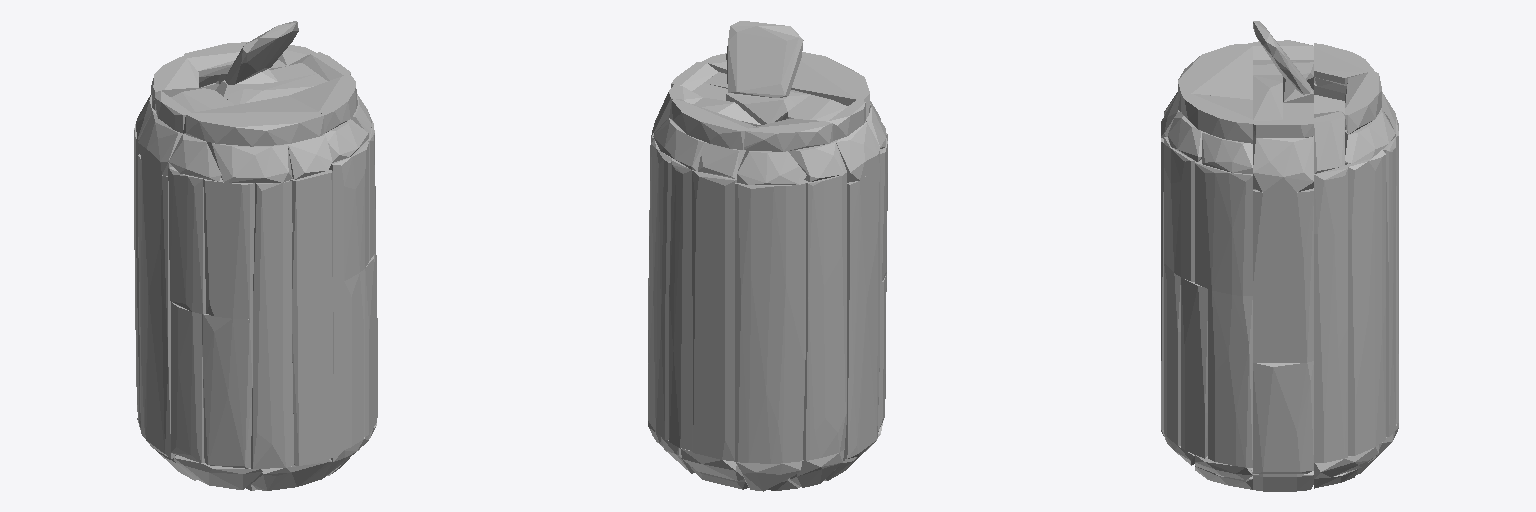
--- Facts derived from the render (not from the file) ---
3 views of the same robot in one strip: view 1: azimuth 30°, elevation 25°; view 2: azimuth 150°, elevation 25°; view 3: azimuth 270°, elevation 25° (orthographic).
Robot: root — 64 links, 63 joints (63 fixed); root link link_df1d8567cf192c61b2cc746911f13ff9_convex_piece_0; default pose: all joints at 0.
Visible links, largest first — view 1: link_df1d8567cf192c61b2cc746911f13ff9_convex_piece_13, link_df1d8567cf192c61b2cc746911f13ff9_convex_piece_12, link_df1d8567cf192c61b2cc746911f13ff9_convex_piece_22, link_df1d8567cf192c61b2cc746911f13ff9_convex_piece_10, link_df1d8567cf192c61b2cc746911f13ff9_convex_piece_14, link_df1d8567cf192c61b2cc746911f13ff9_convex_piece_0, link_df1d8567cf192c61b2cc746911f13ff9_convex_piece_18, link_df1d8567cf192c61b2cc746911f13ff9_convex_piece_15, link_df1d8567cf192c61b2cc746911f13ff9_convex_piece_11, link_df1d8567cf192c61b2cc746911f13ff9_convex_piece_3, link_df1d8567cf192c61b2cc746911f13ff9_convex_piece_43, link_df1d8567cf192c61b2cc746911f13ff9_convex_piece_19 (+17 smaller); view 2: link_df1d8567cf192c61b2cc746911f13ff9_convex_piece_33, link_df1d8567cf192c61b2cc746911f13ff9_convex_piece_62, link_df1d8567cf192c61b2cc746911f13ff9_convex_piece_32, link_df1d8567cf192c61b2cc746911f13ff9_convex_piece_22, link_df1d8567cf192c61b2cc746911f13ff9_convex_piece_63, link_df1d8567cf192c61b2cc746911f13ff9_convex_piece_56, link_df1d8567cf192c61b2cc746911f13ff9_convex_piece_52, link_df1d8567cf192c61b2cc746911f13ff9_convex_piece_0, link_df1d8567cf192c61b2cc746911f13ff9_convex_piece_34, link_df1d8567cf192c61b2cc746911f13ff9_convex_piece_17, link_df1d8567cf192c61b2cc746911f13ff9_convex_piece_58, link_df1d8567cf192c61b2cc746911f13ff9_convex_piece_6 (+14 smaller); view 3: link_df1d8567cf192c61b2cc746911f13ff9_convex_piece_56, link_df1d8567cf192c61b2cc746911f13ff9_convex_piece_30, link_df1d8567cf192c61b2cc746911f13ff9_convex_piece_16, link_df1d8567cf192c61b2cc746911f13ff9_convex_piece_2, link_df1d8567cf192c61b2cc746911f13ff9_convex_piece_4, link_df1d8567cf192c61b2cc746911f13ff9_convex_piece_7, link_df1d8567cf192c61b2cc746911f13ff9_convex_piece_19, link_df1d8567cf192c61b2cc746911f13ff9_convex_piece_3, link_df1d8567cf192c61b2cc746911f13ff9_convex_piece_0, link_df1d8567cf192c61b2cc746911f13ff9_convex_piece_53, link_df1d8567cf192c61b2cc746911f13ff9_convex_piece_63, link_df1d8567cf192c61b2cc746911f13ff9_convex_piece_18 (+18 smaller).
Boxes of the visible links, x1,y1,x2,y2 form: link_df1d8567cf192c61b2cc746911f13ff9_convex_piece_13: [290, 170, 333, 465]; link_df1d8567cf192c61b2cc746911f13ff9_convex_piece_12: [251, 180, 294, 468]; link_df1d8567cf192c61b2cc746911f13ff9_convex_piece_22: [138, 154, 173, 458]; link_df1d8567cf192c61b2cc746911f13ff9_convex_piece_10: [202, 314, 252, 468]; link_df1d8567cf192c61b2cc746911f13ff9_convex_piece_14: [203, 178, 254, 319]; link_df1d8567cf192c61b2cc746911f13ff9_convex_piece_0: [183, 96, 323, 146]; link_df1d8567cf192c61b2cc746911f13ff9_convex_piece_18: [333, 273, 363, 452]; link_df1d8567cf192c61b2cc746911f13ff9_convex_piece_15: [168, 167, 205, 313]; link_df1d8567cf192c61b2cc746911f13ff9_convex_piece_11: [171, 302, 204, 462]; link_df1d8567cf192c61b2cc746911f13ff9_convex_piece_3: [329, 141, 368, 283]; link_df1d8567cf192c61b2cc746911f13ff9_convex_piece_43: [207, 142, 292, 182]; link_df1d8567cf192c61b2cc746911f13ff9_convex_piece_19: [360, 256, 376, 436]; link_df1d8567cf192c61b2cc746911f13ff9_convex_piece_33: [735, 182, 805, 463]; link_df1d8567cf192c61b2cc746911f13ff9_convex_piece_62: [692, 170, 736, 461]; link_df1d8567cf192c61b2cc746911f13ff9_convex_piece_32: [802, 173, 846, 460]; link_df1d8567cf192c61b2cc746911f13ff9_convex_piece_22: [845, 166, 879, 458]; link_df1d8567cf192c61b2cc746911f13ff9_convex_piece_63: [669, 159, 691, 450]; link_df1d8567cf192c61b2cc746911f13ff9_convex_piece_56: [648, 139, 672, 439]; link_df1d8567cf192c61b2cc746911f13ff9_convex_piece_52: [726, 21, 803, 97]; link_df1d8567cf192c61b2cc746911f13ff9_convex_piece_0: [791, 52, 870, 118]; link_df1d8567cf192c61b2cc746911f13ff9_convex_piece_34: [744, 119, 832, 151]; link_df1d8567cf192c61b2cc746911f13ff9_convex_piece_17: [669, 99, 755, 149]; link_df1d8567cf192c61b2cc746911f13ff9_convex_piece_58: [737, 150, 806, 184]; link_df1d8567cf192c61b2cc746911f13ff9_convex_piece_6: [834, 121, 879, 182]; link_df1d8567cf192c61b2cc746911f13ff9_convex_piece_56: [1348, 150, 1385, 455]; link_df1d8567cf192c61b2cc746911f13ff9_convex_piece_30: [1253, 188, 1313, 362]; link_df1d8567cf192c61b2cc746911f13ff9_convex_piece_16: [1314, 164, 1347, 462]; link_df1d8567cf192c61b2cc746911f13ff9_convex_piece_2: [1208, 289, 1252, 467]; link_df1d8567cf192c61b2cc746911f13ff9_convex_piece_4: [1195, 161, 1252, 295]; link_df1d8567cf192c61b2cc746911f13ff9_convex_piece_7: [1253, 361, 1313, 473]; link_df1d8567cf192c61b2cc746911f13ff9_convex_piece_19: [1181, 278, 1207, 458]; link_df1d8567cf192c61b2cc746911f13ff9_convex_piece_3: [1164, 137, 1201, 281]; link_df1d8567cf192c61b2cc746911f13ff9_convex_piece_0: [1178, 43, 1252, 111]; link_df1d8567cf192c61b2cc746911f13ff9_convex_piece_53: [1253, 136, 1313, 192]; link_df1d8567cf192c61b2cc746911f13ff9_convex_piece_63: [1382, 137, 1395, 436]; link_df1d8567cf192c61b2cc746911f13ff9_convex_piece_18: [1164, 264, 1180, 445].
Bounding box of the posed robot: 0.0457 × 0.0451 × 0.0895 m (x, y, z).
Meshes: 64 distinct files referenced, 64 mesh visuals loaded (64 OBJ).

URDF robot description (root):
<robot name="root">
  <link name="link_df1d8567cf192c61b2cc746911f13ff9_convex_piece_0">
    <inertial>
      <origin rpy="0 0 0" xyz="0 0 0"/>
      <mass value="1.13E-07"/>
      <inertia ixx="1.20E-10" ixy="6.98E-12" ixz="-2.08E-11" iyy="1.11E-10" iyz="-4.04E-11" izz="2.51E-11"/>
    </inertial>
    <visual>
      <origin rpy="0 0 0" xyz="0 0 0"/>
      <geometry>
        <mesh filename="df1d8567cf192c61b2cc746911f13ff9_convex_piece_0.obj" scale="1.0000E+00"/>
      </geometry>
      <material name="">
        <color rgba="7.50E-01 7.50E-01 7.50E-01 1"/>
      </material>
    </visual>
    <collision>
      <origin rpy="0 0 0" xyz="0 0 0"/>
      <geometry>
        <mesh filename="df1d8567cf192c61b2cc746911f13ff9_convex_piece_0.obj" scale="1.0000E+00"/>
      </geometry>
    </collision>
  </link>
  <link name="link_df1d8567cf192c61b2cc746911f13ff9_convex_piece_1">
    <inertial>
      <origin rpy="0 0 0" xyz="0 0 0"/>
      <mass value="1.78E-08"/>
      <inertia ixx="3.35E-11" ixy="-2.67E-12" ixz="-5.80E-12" iyy="2.88E-11" iyz="1.28E-11" izz="7.32E-12"/>
    </inertial>
    <visual>
      <origin rpy="0 0 0" xyz="0 0 0"/>
      <geometry>
        <mesh filename="df1d8567cf192c61b2cc746911f13ff9_convex_piece_1.obj" scale="1.0000E+00"/>
      </geometry>
      <material name="">
        <color rgba="7.50E-01 7.50E-01 7.50E-01 1"/>
      </material>
    </visual>
    <collision>
      <origin rpy="0 0 0" xyz="0 0 0"/>
      <geometry>
        <mesh filename="df1d8567cf192c61b2cc746911f13ff9_convex_piece_1.obj" scale="1.0000E+00"/>
      </geometry>
    </collision>
  </link>
  <joint name="link_df1d8567cf192c61b2cc746911f13ff9_convex_piece_1_joint" type="fixed">
    <origin rpy="0 0 0" xyz="0 0 0"/>
    <parent link="link_df1d8567cf192c61b2cc746911f13ff9_convex_piece_0"/>
    <child link="link_df1d8567cf192c61b2cc746911f13ff9_convex_piece_1"/>
  </joint>
  <link name="link_df1d8567cf192c61b2cc746911f13ff9_convex_piece_2">
    <inertial>
      <origin rpy="0 0 0" xyz="0 0 0"/>
      <mass value="7.95E-08"/>
      <inertia ixx="4.34E-11" ixy="-1.46E-11" ixz="-3.04E-11" iyy="6.70E-11" iyz="1.44E-11" izz="3.85E-11"/>
    </inertial>
    <visual>
      <origin rpy="0 0 0" xyz="0 0 0"/>
      <geometry>
        <mesh filename="df1d8567cf192c61b2cc746911f13ff9_convex_piece_2.obj" scale="1.0000E+00"/>
      </geometry>
      <material name="">
        <color rgba="7.50E-01 7.50E-01 7.50E-01 1"/>
      </material>
    </visual>
    <collision>
      <origin rpy="0 0 0" xyz="0 0 0"/>
      <geometry>
        <mesh filename="df1d8567cf192c61b2cc746911f13ff9_convex_piece_2.obj" scale="1.0000E+00"/>
      </geometry>
    </collision>
  </link>
  <joint name="link_df1d8567cf192c61b2cc746911f13ff9_convex_piece_2_joint" type="fixed">
    <origin rpy="0 0 0" xyz="0 0 0"/>
    <parent link="link_df1d8567cf192c61b2cc746911f13ff9_convex_piece_1"/>
    <child link="link_df1d8567cf192c61b2cc746911f13ff9_convex_piece_2"/>
  </joint>
  <link name="link_df1d8567cf192c61b2cc746911f13ff9_convex_piece_3">
    <inertial>
      <origin rpy="0 0 0" xyz="0 0 0"/>
      <mass value="8.67E-08"/>
      <inertia ixx="4.44E-11" ixy="-1.60E-11" ixz="9.81E-12" iyy="2.28E-11" iyz="-1.84E-11" izz="4.04E-11"/>
    </inertial>
    <visual>
      <origin rpy="0 0 0" xyz="0 0 0"/>
      <geometry>
        <mesh filename="df1d8567cf192c61b2cc746911f13ff9_convex_piece_3.obj" scale="1.0000E+00"/>
      </geometry>
      <material name="">
        <color rgba="7.50E-01 7.50E-01 7.50E-01 1"/>
      </material>
    </visual>
    <collision>
      <origin rpy="0 0 0" xyz="0 0 0"/>
      <geometry>
        <mesh filename="df1d8567cf192c61b2cc746911f13ff9_convex_piece_3.obj" scale="1.0000E+00"/>
      </geometry>
    </collision>
  </link>
  <joint name="link_df1d8567cf192c61b2cc746911f13ff9_convex_piece_3_joint" type="fixed">
    <origin rpy="0 0 0" xyz="0 0 0"/>
    <parent link="link_df1d8567cf192c61b2cc746911f13ff9_convex_piece_2"/>
    <child link="link_df1d8567cf192c61b2cc746911f13ff9_convex_piece_3"/>
  </joint>
  <link name="link_df1d8567cf192c61b2cc746911f13ff9_convex_piece_4">
    <inertial>
      <origin rpy="0 0 0" xyz="0 0 0"/>
      <mass value="8.09E-08"/>
      <inertia ixx="2.17E-11" ixy="-1.54E-11" ixz="1.66E-11" iyy="4.02E-11" iyz="-9.43E-12" izz="3.77E-11"/>
    </inertial>
    <visual>
      <origin rpy="0 0 0" xyz="0 0 0"/>
      <geometry>
        <mesh filename="df1d8567cf192c61b2cc746911f13ff9_convex_piece_4.obj" scale="1.0000E+00"/>
      </geometry>
      <material name="">
        <color rgba="7.50E-01 7.50E-01 7.50E-01 1"/>
      </material>
    </visual>
    <collision>
      <origin rpy="0 0 0" xyz="0 0 0"/>
      <geometry>
        <mesh filename="df1d8567cf192c61b2cc746911f13ff9_convex_piece_4.obj" scale="1.0000E+00"/>
      </geometry>
    </collision>
  </link>
  <joint name="link_df1d8567cf192c61b2cc746911f13ff9_convex_piece_4_joint" type="fixed">
    <origin rpy="0 0 0" xyz="0 0 0"/>
    <parent link="link_df1d8567cf192c61b2cc746911f13ff9_convex_piece_3"/>
    <child link="link_df1d8567cf192c61b2cc746911f13ff9_convex_piece_4"/>
  </joint>
  <link name="link_df1d8567cf192c61b2cc746911f13ff9_convex_piece_5">
    <inertial>
      <origin rpy="0 0 0" xyz="0 0 0"/>
      <mass value="5.70E-08"/>
      <inertia ixx="5.92E-11" ixy="-5.89E-12" ixz="1.76E-11" iyy="5.84E-11" iyz="-1.88E-11" izz="1.39E-11"/>
    </inertial>
    <visual>
      <origin rpy="0 0 0" xyz="0 0 0"/>
      <geometry>
        <mesh filename="df1d8567cf192c61b2cc746911f13ff9_convex_piece_5.obj" scale="1.0000E+00"/>
      </geometry>
      <material name="">
        <color rgba="7.50E-01 7.50E-01 7.50E-01 1"/>
      </material>
    </visual>
    <collision>
      <origin rpy="0 0 0" xyz="0 0 0"/>
      <geometry>
        <mesh filename="df1d8567cf192c61b2cc746911f13ff9_convex_piece_5.obj" scale="1.0000E+00"/>
      </geometry>
    </collision>
  </link>
  <joint name="link_df1d8567cf192c61b2cc746911f13ff9_convex_piece_5_joint" type="fixed">
    <origin rpy="0 0 0" xyz="0 0 0"/>
    <parent link="link_df1d8567cf192c61b2cc746911f13ff9_convex_piece_4"/>
    <child link="link_df1d8567cf192c61b2cc746911f13ff9_convex_piece_5"/>
  </joint>
  <link name="link_df1d8567cf192c61b2cc746911f13ff9_convex_piece_6">
    <inertial>
      <origin rpy="0 0 0" xyz="0 0 0"/>
      <mass value="3.00E-08"/>
      <inertia ixx="1.79E-11" ixy="-4.53E-13" ixz="-1.50E-11" iyy="3.02E-11" iyz="5.41E-13" izz="1.29E-11"/>
    </inertial>
    <visual>
      <origin rpy="0 0 0" xyz="0 0 0"/>
      <geometry>
        <mesh filename="df1d8567cf192c61b2cc746911f13ff9_convex_piece_6.obj" scale="1.0000E+00"/>
      </geometry>
      <material name="">
        <color rgba="7.50E-01 7.50E-01 7.50E-01 1"/>
      </material>
    </visual>
    <collision>
      <origin rpy="0 0 0" xyz="0 0 0"/>
      <geometry>
        <mesh filename="df1d8567cf192c61b2cc746911f13ff9_convex_piece_6.obj" scale="1.0000E+00"/>
      </geometry>
    </collision>
  </link>
  <joint name="link_df1d8567cf192c61b2cc746911f13ff9_convex_piece_6_joint" type="fixed">
    <origin rpy="0 0 0" xyz="0 0 0"/>
    <parent link="link_df1d8567cf192c61b2cc746911f13ff9_convex_piece_5"/>
    <child link="link_df1d8567cf192c61b2cc746911f13ff9_convex_piece_6"/>
  </joint>
  <link name="link_df1d8567cf192c61b2cc746911f13ff9_convex_piece_7">
    <inertial>
      <origin rpy="0 0 0" xyz="0 0 0"/>
      <mass value="6.87E-08"/>
      <inertia ixx="5.41E-11" ixy="8.78E-13" ixz="-4.10E-11" iyy="8.57E-11" iyz="-1.18E-12" izz="3.30E-11"/>
    </inertial>
    <visual>
      <origin rpy="0 0 0" xyz="0 0 0"/>
      <geometry>
        <mesh filename="df1d8567cf192c61b2cc746911f13ff9_convex_piece_7.obj" scale="1.0000E+00"/>
      </geometry>
      <material name="">
        <color rgba="7.50E-01 7.50E-01 7.50E-01 1"/>
      </material>
    </visual>
    <collision>
      <origin rpy="0 0 0" xyz="0 0 0"/>
      <geometry>
        <mesh filename="df1d8567cf192c61b2cc746911f13ff9_convex_piece_7.obj" scale="1.0000E+00"/>
      </geometry>
    </collision>
  </link>
  <joint name="link_df1d8567cf192c61b2cc746911f13ff9_convex_piece_7_joint" type="fixed">
    <origin rpy="0 0 0" xyz="0 0 0"/>
    <parent link="link_df1d8567cf192c61b2cc746911f13ff9_convex_piece_6"/>
    <child link="link_df1d8567cf192c61b2cc746911f13ff9_convex_piece_7"/>
  </joint>
  <link name="link_df1d8567cf192c61b2cc746911f13ff9_convex_piece_8">
    <inertial>
      <origin rpy="0 0 0" xyz="0 0 0"/>
      <mass value="2.23E-08"/>
      <inertia ixx="4.10E-11" ixy="-3.66E-12" ixz="8.38E-12" iyy="3.65E-11" iyz="-1.52E-11" izz="8.93E-12"/>
    </inertial>
    <visual>
      <origin rpy="0 0 0" xyz="0 0 0"/>
      <geometry>
        <mesh filename="df1d8567cf192c61b2cc746911f13ff9_convex_piece_8.obj" scale="1.0000E+00"/>
      </geometry>
      <material name="">
        <color rgba="7.50E-01 7.50E-01 7.50E-01 1"/>
      </material>
    </visual>
    <collision>
      <origin rpy="0 0 0" xyz="0 0 0"/>
      <geometry>
        <mesh filename="df1d8567cf192c61b2cc746911f13ff9_convex_piece_8.obj" scale="1.0000E+00"/>
      </geometry>
    </collision>
  </link>
  <joint name="link_df1d8567cf192c61b2cc746911f13ff9_convex_piece_8_joint" type="fixed">
    <origin rpy="0 0 0" xyz="0 0 0"/>
    <parent link="link_df1d8567cf192c61b2cc746911f13ff9_convex_piece_7"/>
    <child link="link_df1d8567cf192c61b2cc746911f13ff9_convex_piece_8"/>
  </joint>
  <link name="link_df1d8567cf192c61b2cc746911f13ff9_convex_piece_9">
    <inertial>
      <origin rpy="0 0 0" xyz="0 0 0"/>
      <mass value="5.53E-08"/>
      <inertia ixx="9.74E-11" ixy="7.89E-12" ixz="3.17E-11" iyy="1.02E-10" iyz="2.33E-11" izz="1.79E-11"/>
    </inertial>
    <visual>
      <origin rpy="0 0 0" xyz="0 0 0"/>
      <geometry>
        <mesh filename="df1d8567cf192c61b2cc746911f13ff9_convex_piece_9.obj" scale="1.0000E+00"/>
      </geometry>
      <material name="">
        <color rgba="7.50E-01 7.50E-01 7.50E-01 1"/>
      </material>
    </visual>
    <collision>
      <origin rpy="0 0 0" xyz="0 0 0"/>
      <geometry>
        <mesh filename="df1d8567cf192c61b2cc746911f13ff9_convex_piece_9.obj" scale="1.0000E+00"/>
      </geometry>
    </collision>
  </link>
  <joint name="link_df1d8567cf192c61b2cc746911f13ff9_convex_piece_9_joint" type="fixed">
    <origin rpy="0 0 0" xyz="0 0 0"/>
    <parent link="link_df1d8567cf192c61b2cc746911f13ff9_convex_piece_8"/>
    <child link="link_df1d8567cf192c61b2cc746911f13ff9_convex_piece_9"/>
  </joint>
  <link name="link_df1d8567cf192c61b2cc746911f13ff9_convex_piece_10">
    <inertial>
      <origin rpy="0 0 0" xyz="0 0 0"/>
      <mass value="6.93E-08"/>
      <inertia ixx="5.25E-11" ixy="1.61E-11" ixz="2.25E-11" iyy="5.19E-11" iyz="2.29E-11" izz="3.31E-11"/>
    </inertial>
    <visual>
      <origin rpy="0 0 0" xyz="0 0 0"/>
      <geometry>
        <mesh filename="df1d8567cf192c61b2cc746911f13ff9_convex_piece_10.obj" scale="1.0000E+00"/>
      </geometry>
      <material name="">
        <color rgba="7.50E-01 7.50E-01 7.50E-01 1"/>
      </material>
    </visual>
    <collision>
      <origin rpy="0 0 0" xyz="0 0 0"/>
      <geometry>
        <mesh filename="df1d8567cf192c61b2cc746911f13ff9_convex_piece_10.obj" scale="1.0000E+00"/>
      </geometry>
    </collision>
  </link>
  <joint name="link_df1d8567cf192c61b2cc746911f13ff9_convex_piece_10_joint" type="fixed">
    <origin rpy="0 0 0" xyz="0 0 0"/>
    <parent link="link_df1d8567cf192c61b2cc746911f13ff9_convex_piece_9"/>
    <child link="link_df1d8567cf192c61b2cc746911f13ff9_convex_piece_10"/>
  </joint>
  <link name="link_df1d8567cf192c61b2cc746911f13ff9_convex_piece_11">
    <inertial>
      <origin rpy="0 0 0" xyz="0 0 0"/>
      <mass value="5.55E-08"/>
      <inertia ixx="3.47E-11" ixy="9.59E-12" ixz="2.42E-11" iyy="5.19E-11" iyz="1.07E-11" izz="2.62E-11"/>
    </inertial>
    <visual>
      <origin rpy="0 0 0" xyz="0 0 0"/>
      <geometry>
        <mesh filename="df1d8567cf192c61b2cc746911f13ff9_convex_piece_11.obj" scale="1.0000E+00"/>
      </geometry>
      <material name="">
        <color rgba="7.50E-01 7.50E-01 7.50E-01 1"/>
      </material>
    </visual>
    <collision>
      <origin rpy="0 0 0" xyz="0 0 0"/>
      <geometry>
        <mesh filename="df1d8567cf192c61b2cc746911f13ff9_convex_piece_11.obj" scale="1.0000E+00"/>
      </geometry>
    </collision>
  </link>
  <joint name="link_df1d8567cf192c61b2cc746911f13ff9_convex_piece_11_joint" type="fixed">
    <origin rpy="0 0 0" xyz="0 0 0"/>
    <parent link="link_df1d8567cf192c61b2cc746911f13ff9_convex_piece_10"/>
    <child link="link_df1d8567cf192c61b2cc746911f13ff9_convex_piece_11"/>
  </joint>
  <link name="link_df1d8567cf192c61b2cc746911f13ff9_convex_piece_12">
    <inertial>
      <origin rpy="0 0 0" xyz="0 0 0"/>
      <mass value="1.07E-07"/>
      <inertia ixx="8.04E-11" ixy="1.75E-11" ixz="7.99E-12" iyy="4.46E-11" iyz="1.97E-11" izz="5.10E-11"/>
    </inertial>
    <visual>
      <origin rpy="0 0 0" xyz="0 0 0"/>
      <geometry>
        <mesh filename="df1d8567cf192c61b2cc746911f13ff9_convex_piece_12.obj" scale="1.0000E+00"/>
      </geometry>
      <material name="">
        <color rgba="7.50E-01 7.50E-01 7.50E-01 1"/>
      </material>
    </visual>
    <collision>
      <origin rpy="0 0 0" xyz="0 0 0"/>
      <geometry>
        <mesh filename="df1d8567cf192c61b2cc746911f13ff9_convex_piece_12.obj" scale="1.0000E+00"/>
      </geometry>
    </collision>
  </link>
  <joint name="link_df1d8567cf192c61b2cc746911f13ff9_convex_piece_12_joint" type="fixed">
    <origin rpy="0 0 0" xyz="0 0 0"/>
    <parent link="link_df1d8567cf192c61b2cc746911f13ff9_convex_piece_11"/>
    <child link="link_df1d8567cf192c61b2cc746911f13ff9_convex_piece_12"/>
  </joint>
  <link name="link_df1d8567cf192c61b2cc746911f13ff9_convex_piece_13">
    <inertial>
      <origin rpy="0 0 0" xyz="0 0 0"/>
      <mass value="8.23E-08"/>
      <inertia ixx="6.62E-11" ixy="2.01E-13" ixz="-7.63E-14" iyy="2.75E-11" iyz="1.35E-11" izz="3.97E-11"/>
    </inertial>
    <visual>
      <origin rpy="0 0 0" xyz="0 0 0"/>
      <geometry>
        <mesh filename="df1d8567cf192c61b2cc746911f13ff9_convex_piece_13.obj" scale="1.0000E+00"/>
      </geometry>
      <material name="">
        <color rgba="7.50E-01 7.50E-01 7.50E-01 1"/>
      </material>
    </visual>
    <collision>
      <origin rpy="0 0 0" xyz="0 0 0"/>
      <geometry>
        <mesh filename="df1d8567cf192c61b2cc746911f13ff9_convex_piece_13.obj" scale="1.0000E+00"/>
      </geometry>
    </collision>
  </link>
  <joint name="link_df1d8567cf192c61b2cc746911f13ff9_convex_piece_13_joint" type="fixed">
    <origin rpy="0 0 0" xyz="0 0 0"/>
    <parent link="link_df1d8567cf192c61b2cc746911f13ff9_convex_piece_12"/>
    <child link="link_df1d8567cf192c61b2cc746911f13ff9_convex_piece_13"/>
  </joint>
  <link name="link_df1d8567cf192c61b2cc746911f13ff9_convex_piece_14">
    <inertial>
      <origin rpy="0 0 0" xyz="0 0 0"/>
      <mass value="6.19E-08"/>
      <inertia ixx="2.30E-11" ixy="1.46E-11" ixz="-7.55E-12" iyy="2.06E-11" iyz="-8.17E-12" izz="3.01E-11"/>
    </inertial>
    <visual>
      <origin rpy="0 0 0" xyz="0 0 0"/>
      <geometry>
        <mesh filename="df1d8567cf192c61b2cc746911f13ff9_convex_piece_14.obj" scale="1.0000E+00"/>
      </geometry>
      <material name="">
        <color rgba="7.50E-01 7.50E-01 7.50E-01 1"/>
      </material>
    </visual>
    <collision>
      <origin rpy="0 0 0" xyz="0 0 0"/>
      <geometry>
        <mesh filename="df1d8567cf192c61b2cc746911f13ff9_convex_piece_14.obj" scale="1.0000E+00"/>
      </geometry>
    </collision>
  </link>
  <joint name="link_df1d8567cf192c61b2cc746911f13ff9_convex_piece_14_joint" type="fixed">
    <origin rpy="0 0 0" xyz="0 0 0"/>
    <parent link="link_df1d8567cf192c61b2cc746911f13ff9_convex_piece_13"/>
    <child link="link_df1d8567cf192c61b2cc746911f13ff9_convex_piece_14"/>
  </joint>
  <link name="link_df1d8567cf192c61b2cc746911f13ff9_convex_piece_15">
    <inertial>
      <origin rpy="0 0 0" xyz="0 0 0"/>
      <mass value="5.58E-08"/>
      <inertia ixx="1.10E-11" ixy="1.01E-11" ixz="-9.29E-12" iyy="2.85E-11" iyz="-4.22E-12" izz="2.73E-11"/>
    </inertial>
    <visual>
      <origin rpy="0 0 0" xyz="0 0 0"/>
      <geometry>
        <mesh filename="df1d8567cf192c61b2cc746911f13ff9_convex_piece_15.obj" scale="1.0000E+00"/>
      </geometry>
      <material name="">
        <color rgba="7.50E-01 7.50E-01 7.50E-01 1"/>
      </material>
    </visual>
    <collision>
      <origin rpy="0 0 0" xyz="0 0 0"/>
      <geometry>
        <mesh filename="df1d8567cf192c61b2cc746911f13ff9_convex_piece_15.obj" scale="1.0000E+00"/>
      </geometry>
    </collision>
  </link>
  <joint name="link_df1d8567cf192c61b2cc746911f13ff9_convex_piece_15_joint" type="fixed">
    <origin rpy="0 0 0" xyz="0 0 0"/>
    <parent link="link_df1d8567cf192c61b2cc746911f13ff9_convex_piece_14"/>
    <child link="link_df1d8567cf192c61b2cc746911f13ff9_convex_piece_15"/>
  </joint>
  <link name="link_df1d8567cf192c61b2cc746911f13ff9_convex_piece_16">
    <inertial>
      <origin rpy="0 0 0" xyz="0 0 0"/>
      <mass value="1.11E-07"/>
      <inertia ixx="4.34E-11" ixy="2.10E-11" ixz="-1.21E-11" iyy="7.43E-11" iyz="-5.96E-12" izz="5.30E-11"/>
    </inertial>
    <visual>
      <origin rpy="0 0 0" xyz="0 0 0"/>
      <geometry>
        <mesh filename="df1d8567cf192c61b2cc746911f13ff9_convex_piece_16.obj" scale="1.0000E+00"/>
      </geometry>
      <material name="">
        <color rgba="7.50E-01 7.50E-01 7.50E-01 1"/>
      </material>
    </visual>
    <collision>
      <origin rpy="0 0 0" xyz="0 0 0"/>
      <geometry>
        <mesh filename="df1d8567cf192c61b2cc746911f13ff9_convex_piece_16.obj" scale="1.0000E+00"/>
      </geometry>
    </collision>
  </link>
  <joint name="link_df1d8567cf192c61b2cc746911f13ff9_convex_piece_16_joint" type="fixed">
    <origin rpy="0 0 0" xyz="0 0 0"/>
    <parent link="link_df1d8567cf192c61b2cc746911f13ff9_convex_piece_15"/>
    <child link="link_df1d8567cf192c61b2cc746911f13ff9_convex_piece_16"/>
  </joint>
  <link name="link_df1d8567cf192c61b2cc746911f13ff9_convex_piece_17">
    <inertial>
      <origin rpy="0 0 0" xyz="0 0 0"/>
      <mass value="4.68E-08"/>
      <inertia ixx="5.41E-11" ixy="2.17E-12" ixz="4.60E-12" iyy="4.42E-11" iyz="2.22E-11" izz="1.31E-11"/>
    </inertial>
    <visual>
      <origin rpy="0 0 0" xyz="0 0 0"/>
      <geometry>
        <mesh filename="df1d8567cf192c61b2cc746911f13ff9_convex_piece_17.obj" scale="1.0000E+00"/>
      </geometry>
      <material name="">
        <color rgba="7.50E-01 7.50E-01 7.50E-01 1"/>
      </material>
    </visual>
    <collision>
      <origin rpy="0 0 0" xyz="0 0 0"/>
      <geometry>
        <mesh filename="df1d8567cf192c61b2cc746911f13ff9_convex_piece_17.obj" scale="1.0000E+00"/>
      </geometry>
    </collision>
  </link>
  <joint name="link_df1d8567cf192c61b2cc746911f13ff9_convex_piece_17_joint" type="fixed">
    <origin rpy="0 0 0" xyz="0 0 0"/>
    <parent link="link_df1d8567cf192c61b2cc746911f13ff9_convex_piece_16"/>
    <child link="link_df1d8567cf192c61b2cc746911f13ff9_convex_piece_17"/>
  </joint>
  <link name="link_df1d8567cf192c61b2cc746911f13ff9_convex_piece_18">
    <inertial>
      <origin rpy="0 0 0" xyz="0 0 0"/>
      <mass value="5.91E-08"/>
      <inertia ixx="5.08E-11" ixy="-9.83E-12" ixz="-9.47E-12" iyy="3.08E-11" iyz="2.30E-11" izz="2.86E-11"/>
    </inertial>
    <visual>
      <origin rpy="0 0 0" xyz="0 0 0"/>
      <geometry>
        <mesh filename="df1d8567cf192c61b2cc746911f13ff9_convex_piece_18.obj" scale="1.0000E+00"/>
      </geometry>
      <material name="">
        <color rgba="7.50E-01 7.50E-01 7.50E-01 1"/>
      </material>
    </visual>
    <collision>
      <origin rpy="0 0 0" xyz="0 0 0"/>
      <geometry>
        <mesh filename="df1d8567cf192c61b2cc746911f13ff9_convex_piece_18.obj" scale="1.0000E+00"/>
      </geometry>
    </collision>
  </link>
  <joint name="link_df1d8567cf192c61b2cc746911f13ff9_convex_piece_18_joint" type="fixed">
    <origin rpy="0 0 0" xyz="0 0 0"/>
    <parent link="link_df1d8567cf192c61b2cc746911f13ff9_convex_piece_17"/>
    <child link="link_df1d8567cf192c61b2cc746911f13ff9_convex_piece_18"/>
  </joint>
  <link name="link_df1d8567cf192c61b2cc746911f13ff9_convex_piece_19">
    <inertial>
      <origin rpy="0 0 0" xyz="0 0 0"/>
      <mass value="6.27E-08"/>
      <inertia ixx="4.54E-11" ixy="-1.49E-11" ixz="-1.82E-11" iyy="4.28E-11" iyz="1.98E-11" izz="3.04E-11"/>
    </inertial>
    <visual>
      <origin rpy="0 0 0" xyz="0 0 0"/>
      <geometry>
        <mesh filename="df1d8567cf192c61b2cc746911f13ff9_convex_piece_19.obj" scale="1.0000E+00"/>
      </geometry>
      <material name="">
        <color rgba="7.50E-01 7.50E-01 7.50E-01 1"/>
      </material>
    </visual>
    <collision>
      <origin rpy="0 0 0" xyz="0 0 0"/>
      <geometry>
        <mesh filename="df1d8567cf192c61b2cc746911f13ff9_convex_piece_19.obj" scale="1.0000E+00"/>
      </geometry>
    </collision>
  </link>
  <joint name="link_df1d8567cf192c61b2cc746911f13ff9_convex_piece_19_joint" type="fixed">
    <origin rpy="0 0 0" xyz="0 0 0"/>
    <parent link="link_df1d8567cf192c61b2cc746911f13ff9_convex_piece_18"/>
    <child link="link_df1d8567cf192c61b2cc746911f13ff9_convex_piece_19"/>
  </joint>
  <link name="link_df1d8567cf192c61b2cc746911f13ff9_convex_piece_20">
    <inertial>
      <origin rpy="0 0 0" xyz="0 0 0"/>
      <mass value="1.66E-08"/>
      <inertia ixx="1.59E-11" ixy="-2.60E-12" ixz="3.88E-12" iyy="1.22E-11" iyz="-7.53E-12" izz="6.66E-12"/>
    </inertial>
    <visual>
      <origin rpy="0 0 0" xyz="0 0 0"/>
      <geometry>
        <mesh filename="df1d8567cf192c61b2cc746911f13ff9_convex_piece_20.obj" scale="1.0000E+00"/>
      </geometry>
      <material name="">
        <color rgba="7.50E-01 7.50E-01 7.50E-01 1"/>
      </material>
    </visual>
    <collision>
      <origin rpy="0 0 0" xyz="0 0 0"/>
      <geometry>
        <mesh filename="df1d8567cf192c61b2cc746911f13ff9_convex_piece_20.obj" scale="1.0000E+00"/>
      </geometry>
    </collision>
  </link>
  <joint name="link_df1d8567cf192c61b2cc746911f13ff9_convex_piece_20_joint" type="fixed">
    <origin rpy="0 0 0" xyz="0 0 0"/>
    <parent link="link_df1d8567cf192c61b2cc746911f13ff9_convex_piece_19"/>
    <child link="link_df1d8567cf192c61b2cc746911f13ff9_convex_piece_20"/>
  </joint>
  <link name="link_df1d8567cf192c61b2cc746911f13ff9_convex_piece_21">
    <inertial>
      <origin rpy="0 0 0" xyz="0 0 0"/>
      <mass value="2.04E-08"/>
      <inertia ixx="1.58E-11" ixy="-3.34E-12" ixz="8.73E-12" iyy="1.91E-11" iyz="-5.46E-12" izz="7.84E-12"/>
    </inertial>
    <visual>
      <origin rpy="0 0 0" xyz="0 0 0"/>
      <geometry>
        <mesh filename="df1d8567cf192c61b2cc746911f13ff9_convex_piece_21.obj" scale="1.0000E+00"/>
      </geometry>
      <material name="">
        <color rgba="7.50E-01 7.50E-01 7.50E-01 1"/>
      </material>
    </visual>
    <collision>
      <origin rpy="0 0 0" xyz="0 0 0"/>
      <geometry>
        <mesh filename="df1d8567cf192c61b2cc746911f13ff9_convex_piece_21.obj" scale="1.0000E+00"/>
      </geometry>
    </collision>
  </link>
  <joint name="link_df1d8567cf192c61b2cc746911f13ff9_convex_piece_21_joint" type="fixed">
    <origin rpy="0 0 0" xyz="0 0 0"/>
    <parent link="link_df1d8567cf192c61b2cc746911f13ff9_convex_piece_20"/>
    <child link="link_df1d8567cf192c61b2cc746911f13ff9_convex_piece_21"/>
  </joint>
  <link name="link_df1d8567cf192c61b2cc746911f13ff9_convex_piece_22">
    <inertial>
      <origin rpy="0 0 0" xyz="0 0 0"/>
      <mass value="1.37E-07"/>
      <inertia ixx="4.34E-11" ixy="-1.64E-12" ixz="2.16E-11" iyy="1.06E-10" iyz="-4.94E-13" izz="6.59E-11"/>
    </inertial>
    <visual>
      <origin rpy="0 0 0" xyz="0 0 0"/>
      <geometry>
        <mesh filename="df1d8567cf192c61b2cc746911f13ff9_convex_piece_22.obj" scale="1.0000E+00"/>
      </geometry>
      <material name="">
        <color rgba="7.50E-01 7.50E-01 7.50E-01 1"/>
      </material>
    </visual>
    <collision>
      <origin rpy="0 0 0" xyz="0 0 0"/>
      <geometry>
        <mesh filename="df1d8567cf192c61b2cc746911f13ff9_convex_piece_22.obj" scale="1.0000E+00"/>
      </geometry>
    </collision>
  </link>
  <joint name="link_df1d8567cf192c61b2cc746911f13ff9_convex_piece_22_joint" type="fixed">
    <origin rpy="0 0 0" xyz="0 0 0"/>
    <parent link="link_df1d8567cf192c61b2cc746911f13ff9_convex_piece_21"/>
    <child link="link_df1d8567cf192c61b2cc746911f13ff9_convex_piece_22"/>
  </joint>
  <link name="link_df1d8567cf192c61b2cc746911f13ff9_convex_piece_23">
    <inertial>
      <origin rpy="0 0 0" xyz="0 0 0"/>
      <mass value="1.79E-08"/>
      <inertia ixx="1.47E-11" ixy="-8.60E-13" ixz="1.01E-11" iyy="2.20E-11" iyz="-9.43E-13" izz="7.81E-12"/>
    </inertial>
    <visual>
      <origin rpy="0 0 0" xyz="0 0 0"/>
      <geometry>
        <mesh filename="df1d8567cf192c61b2cc746911f13ff9_convex_piece_23.obj" scale="1.0000E+00"/>
      </geometry>
      <material name="">
        <color rgba="7.50E-01 7.50E-01 7.50E-01 1"/>
      </material>
    </visual>
    <collision>
      <origin rpy="0 0 0" xyz="0 0 0"/>
      <geometry>
        <mesh filename="df1d8567cf192c61b2cc746911f13ff9_convex_piece_23.obj" scale="1.0000E+00"/>
      </geometry>
    </collision>
  </link>
  <joint name="link_df1d8567cf192c61b2cc746911f13ff9_convex_piece_23_joint" type="fixed">
    <origin rpy="0 0 0" xyz="0 0 0"/>
    <parent link="link_df1d8567cf192c61b2cc746911f13ff9_convex_piece_22"/>
    <child link="link_df1d8567cf192c61b2cc746911f13ff9_convex_piece_23"/>
  </joint>
  <link name="link_df1d8567cf192c61b2cc746911f13ff9_convex_piece_24">
    <inertial>
      <origin rpy="0 0 0" xyz="0 0 0"/>
      <mass value="2.20E-08"/>
      <inertia ixx="3.75E-11" ixy="-2.88E-13" ixz="1.63E-11" iyy="4.43E-11" iyz="-6.60E-13" izz="7.36E-12"/>
    </inertial>
    <visual>
      <origin rpy="0 0 0" xyz="0 0 0"/>
      <geometry>
        <mesh filename="df1d8567cf192c61b2cc746911f13ff9_convex_piece_24.obj" scale="1.0000E+00"/>
      </geometry>
      <material name="">
        <color rgba="7.50E-01 7.50E-01 7.50E-01 1"/>
      </material>
    </visual>
    <collision>
      <origin rpy="0 0 0" xyz="0 0 0"/>
      <geometry>
        <mesh filename="df1d8567cf192c61b2cc746911f13ff9_convex_piece_24.obj" scale="1.0000E+00"/>
      </geometry>
    </collision>
  </link>
  <joint name="link_df1d8567cf192c61b2cc746911f13ff9_convex_piece_24_joint" type="fixed">
    <origin rpy="0 0 0" xyz="0 0 0"/>
    <parent link="link_df1d8567cf192c61b2cc746911f13ff9_convex_piece_23"/>
    <child link="link_df1d8567cf192c61b2cc746911f13ff9_convex_piece_24"/>
  </joint>
  <link name="link_df1d8567cf192c61b2cc746911f13ff9_convex_piece_25">
    <inertial>
      <origin rpy="0 0 0" xyz="0 0 0"/>
      <mass value="3.19E-08"/>
      <inertia ixx="5.74E-11" ixy="-2.67E-13" ixz="1.60E-11" iyy="6.16E-11" iyz="-9.78E-13" izz="4.94E-12"/>
    </inertial>
    <visual>
      <origin rpy="0 0 0" xyz="0 0 0"/>
      <geometry>
        <mesh filename="df1d8567cf192c61b2cc746911f13ff9_convex_piece_25.obj" scale="1.0000E+00"/>
      </geometry>
      <material name="">
        <color rgba="7.50E-01 7.50E-01 7.50E-01 1"/>
      </material>
    </visual>
    <collision>
      <origin rpy="0 0 0" xyz="0 0 0"/>
      <geometry>
        <mesh filename="df1d8567cf192c61b2cc746911f13ff9_convex_piece_25.obj" scale="1.0000E+00"/>
      </geometry>
    </collision>
  </link>
  <joint name="link_df1d8567cf192c61b2cc746911f13ff9_convex_piece_25_joint" type="fixed">
    <origin rpy="0 0 0" xyz="0 0 0"/>
    <parent link="link_df1d8567cf192c61b2cc746911f13ff9_convex_piece_24"/>
    <child link="link_df1d8567cf192c61b2cc746911f13ff9_convex_piece_25"/>
  </joint>
  <link name="link_df1d8567cf192c61b2cc746911f13ff9_convex_piece_26">
    <inertial>
      <origin rpy="0 0 0" xyz="0 0 0"/>
      <mass value="2.02E-08"/>
      <inertia ixx="1.85E-11" ixy="-1.90E-13" ixz="-1.08E-11" iyy="2.45E-11" iyz="3.30E-13" izz="6.44E-12"/>
    </inertial>
    <visual>
      <origin rpy="0 0 0" xyz="0 0 0"/>
      <geometry>
        <mesh filename="df1d8567cf192c61b2cc746911f13ff9_convex_piece_26.obj" scale="1.0000E+00"/>
      </geometry>
      <material name="">
        <color rgba="7.50E-01 7.50E-01 7.50E-01 1"/>
      </material>
    </visual>
    <collision>
      <origin rpy="0 0 0" xyz="0 0 0"/>
      <geometry>
        <mesh filename="df1d8567cf192c61b2cc746911f13ff9_convex_piece_26.obj" scale="1.0000E+00"/>
      </geometry>
    </collision>
  </link>
  <joint name="link_df1d8567cf192c61b2cc746911f13ff9_convex_piece_26_joint" type="fixed">
    <origin rpy="0 0 0" xyz="0 0 0"/>
    <parent link="link_df1d8567cf192c61b2cc746911f13ff9_convex_piece_25"/>
    <child link="link_df1d8567cf192c61b2cc746911f13ff9_convex_piece_26"/>
  </joint>
  <link name="link_df1d8567cf192c61b2cc746911f13ff9_convex_piece_27">
    <inertial>
      <origin rpy="0 0 0" xyz="0 0 0"/>
      <mass value="1.38E-08"/>
      <inertia ixx="1.27E-11" ixy="-9.40E-14" ixz="-4.50E-12" iyy="1.42E-11" iyz="2.43E-13" izz="1.80E-12"/>
    </inertial>
    <visual>
      <origin rpy="0 0 0" xyz="0 0 0"/>
      <geometry>
        <mesh filename="df1d8567cf192c61b2cc746911f13ff9_convex_piece_27.obj" scale="1.0000E+00"/>
      </geometry>
      <material name="">
        <color rgba="7.50E-01 7.50E-01 7.50E-01 1"/>
      </material>
    </visual>
    <collision>
      <origin rpy="0 0 0" xyz="0 0 0"/>
      <geometry>
        <mesh filename="df1d8567cf192c61b2cc746911f13ff9_convex_piece_27.obj" scale="1.0000E+00"/>
      </geometry>
    </collision>
  </link>
  <joint name="link_df1d8567cf192c61b2cc746911f13ff9_convex_piece_27_joint" type="fixed">
    <origin rpy="0 0 0" xyz="0 0 0"/>
    <parent link="link_df1d8567cf192c61b2cc746911f13ff9_convex_piece_26"/>
    <child link="link_df1d8567cf192c61b2cc746911f13ff9_convex_piece_27"/>
  </joint>
  <link name="link_df1d8567cf192c61b2cc746911f13ff9_convex_piece_28">
    <inertial>
      <origin rpy="0 0 0" xyz="0 0 0"/>
      <mass value="4.76E-08"/>
      <inertia ixx="8.07E-11" ixy="9.26E-14" ixz="-5.72E-12" iyy="8.20E-11" iyz="-1.30E-12" izz="2.33E-12"/>
    </inertial>
    <visual>
      <origin rpy="0 0 0" xyz="0 0 0"/>
      <geometry>
        <mesh filename="df1d8567cf192c61b2cc746911f13ff9_convex_piece_28.obj" scale="1.0000E+00"/>
      </geometry>
      <material name="">
        <color rgba="7.50E-01 7.50E-01 7.50E-01 1"/>
      </material>
    </visual>
    <collision>
      <origin rpy="0 0 0" xyz="0 0 0"/>
      <geometry>
        <mesh filename="df1d8567cf192c61b2cc746911f13ff9_convex_piece_28.obj" scale="1.0000E+00"/>
      </geometry>
    </collision>
  </link>
  <joint name="link_df1d8567cf192c61b2cc746911f13ff9_convex_piece_28_joint" type="fixed">
    <origin rpy="0 0 0" xyz="0 0 0"/>
    <parent link="link_df1d8567cf192c61b2cc746911f13ff9_convex_piece_27"/>
    <child link="link_df1d8567cf192c61b2cc746911f13ff9_convex_piece_28"/>
  </joint>
  <link name="link_df1d8567cf192c61b2cc746911f13ff9_convex_piece_29">
    <inertial>
      <origin rpy="0 0 0" xyz="0 0 0"/>
      <mass value="4.03E-08"/>
      <inertia ixx="6.83E-11" ixy="4.58E-13" ixz="-2.90E-11" iyy="8.03E-11" iyz="-1.12E-12" izz="1.29E-11"/>
    </inertial>
    <visual>
      <origin rpy="0 0 0" xyz="0 0 0"/>
      <geometry>
        <mesh filename="df1d8567cf192c61b2cc746911f13ff9_convex_piece_29.obj" scale="1.0000E+00"/>
      </geometry>
      <material name="">
        <color rgba="7.50E-01 7.50E-01 7.50E-01 1"/>
      </material>
    </visual>
    <collision>
      <origin rpy="0 0 0" xyz="0 0 0"/>
      <geometry>
        <mesh filename="df1d8567cf192c61b2cc746911f13ff9_convex_piece_29.obj" scale="1.0000E+00"/>
      </geometry>
    </collision>
  </link>
  <joint name="link_df1d8567cf192c61b2cc746911f13ff9_convex_piece_29_joint" type="fixed">
    <origin rpy="0 0 0" xyz="0 0 0"/>
    <parent link="link_df1d8567cf192c61b2cc746911f13ff9_convex_piece_28"/>
    <child link="link_df1d8567cf192c61b2cc746911f13ff9_convex_piece_29"/>
  </joint>
  <link name="link_df1d8567cf192c61b2cc746911f13ff9_convex_piece_30">
    <inertial>
      <origin rpy="0 0 0" xyz="0 0 0"/>
      <mass value="8.07E-08"/>
      <inertia ixx="7.72E-12" ixy="1.63E-12" ixz="4.55E-12" iyy="4.38E-11" iyz="2.25E-13" izz="3.79E-11"/>
    </inertial>
    <visual>
      <origin rpy="0 0 0" xyz="0 0 0"/>
      <geometry>
        <mesh filename="df1d8567cf192c61b2cc746911f13ff9_convex_piece_30.obj" scale="1.0000E+00"/>
      </geometry>
      <material name="">
        <color rgba="7.50E-01 7.50E-01 7.50E-01 1"/>
      </material>
    </visual>
    <collision>
      <origin rpy="0 0 0" xyz="0 0 0"/>
      <geometry>
        <mesh filename="df1d8567cf192c61b2cc746911f13ff9_convex_piece_30.obj" scale="1.0000E+00"/>
      </geometry>
    </collision>
  </link>
  <joint name="link_df1d8567cf192c61b2cc746911f13ff9_convex_piece_30_joint" type="fixed">
    <origin rpy="0 0 0" xyz="0 0 0"/>
    <parent link="link_df1d8567cf192c61b2cc746911f13ff9_convex_piece_29"/>
    <child link="link_df1d8567cf192c61b2cc746911f13ff9_convex_piece_30"/>
  </joint>
  <link name="link_df1d8567cf192c61b2cc746911f13ff9_convex_piece_31">
    <inertial>
      <origin rpy="0 0 0" xyz="0 0 0"/>
      <mass value="2.56E-08"/>
      <inertia ixx="4.33E-11" ixy="-4.16E-12" ixz="1.67E-11" iyy="4.75E-11" iyz="-1.03E-11" izz="9.59E-12"/>
    </inertial>
    <visual>
      <origin rpy="0 0 0" xyz="0 0 0"/>
      <geometry>
        <mesh filename="df1d8567cf192c61b2cc746911f13ff9_convex_piece_31.obj" scale="1.0000E+00"/>
      </geometry>
      <material name="">
        <color rgba="7.50E-01 7.50E-01 7.50E-01 1"/>
      </material>
    </visual>
    <collision>
      <origin rpy="0 0 0" xyz="0 0 0"/>
      <geometry>
        <mesh filename="df1d8567cf192c61b2cc746911f13ff9_convex_piece_31.obj" scale="1.0000E+00"/>
      </geometry>
    </collision>
  </link>
  <joint name="link_df1d8567cf192c61b2cc746911f13ff9_convex_piece_31_joint" type="fixed">
    <origin rpy="0 0 0" xyz="0 0 0"/>
    <parent link="link_df1d8567cf192c61b2cc746911f13ff9_convex_piece_30"/>
    <child link="link_df1d8567cf192c61b2cc746911f13ff9_convex_piece_31"/>
  </joint>
  <link name="link_df1d8567cf192c61b2cc746911f13ff9_convex_piece_32">
    <inertial>
      <origin rpy="0 0 0" xyz="0 0 0"/>
      <mass value="1.50E-07"/>
      <inertia ixx="6.35E-11" ixy="-3.01E-11" ixz="1.76E-11" iyy="9.82E-11" iyz="-1.03E-11" izz="7.16E-11"/>
    </inertial>
    <visual>
      <origin rpy="0 0 0" xyz="0 0 0"/>
      <geometry>
        <mesh filename="df1d8567cf192c61b2cc746911f13ff9_convex_piece_32.obj" scale="1.0000E+00"/>
      </geometry>
      <material name="">
        <color rgba="7.50E-01 7.50E-01 7.50E-01 1"/>
      </material>
    </visual>
    <collision>
      <origin rpy="0 0 0" xyz="0 0 0"/>
      <geometry>
        <mesh filename="df1d8567cf192c61b2cc746911f13ff9_convex_piece_32.obj" scale="1.0000E+00"/>
      </geometry>
    </collision>
  </link>
  <joint name="link_df1d8567cf192c61b2cc746911f13ff9_convex_piece_32_joint" type="fixed">
    <origin rpy="0 0 0" xyz="0 0 0"/>
    <parent link="link_df1d8567cf192c61b2cc746911f13ff9_convex_piece_31"/>
    <child link="link_df1d8567cf192c61b2cc746911f13ff9_convex_piece_32"/>
  </joint>
  <link name="link_df1d8567cf192c61b2cc746911f13ff9_convex_piece_33">
    <inertial>
      <origin rpy="0 0 0" xyz="0 0 0"/>
      <mass value="2.00E-07"/>
      <inertia ixx="1.29E-10" ixy="-4.03E-11" ixz="1.35E-11" iyy="8.65E-11" iyz="-2.28E-11" izz="9.57E-11"/>
    </inertial>
    <visual>
      <origin rpy="0 0 0" xyz="0 0 0"/>
      <geometry>
        <mesh filename="df1d8567cf192c61b2cc746911f13ff9_convex_piece_33.obj" scale="1.0000E+00"/>
      </geometry>
      <material name="">
        <color rgba="7.50E-01 7.50E-01 7.50E-01 1"/>
      </material>
    </visual>
    <collision>
      <origin rpy="0 0 0" xyz="0 0 0"/>
      <geometry>
        <mesh filename="df1d8567cf192c61b2cc746911f13ff9_convex_piece_33.obj" scale="1.0000E+00"/>
      </geometry>
    </collision>
  </link>
  <joint name="link_df1d8567cf192c61b2cc746911f13ff9_convex_piece_33_joint" type="fixed">
    <origin rpy="0 0 0" xyz="0 0 0"/>
    <parent link="link_df1d8567cf192c61b2cc746911f13ff9_convex_piece_32"/>
    <child link="link_df1d8567cf192c61b2cc746911f13ff9_convex_piece_33"/>
  </joint>
  <link name="link_df1d8567cf192c61b2cc746911f13ff9_convex_piece_34">
    <inertial>
      <origin rpy="0 0 0" xyz="0 0 0"/>
      <mass value="4.24E-08"/>
      <inertia ixx="4.48E-11" ixy="-5.34E-12" ixz="-1.46E-11" iyy="4.44E-11" iyz="1.52E-11" izz="1.20E-11"/>
    </inertial>
    <visual>
      <origin rpy="0 0 0" xyz="0 0 0"/>
      <geometry>
        <mesh filename="df1d8567cf192c61b2cc746911f13ff9_convex_piece_34.obj" scale="1.0000E+00"/>
      </geometry>
      <material name="">
        <color rgba="7.50E-01 7.50E-01 7.50E-01 1"/>
      </material>
    </visual>
    <collision>
      <origin rpy="0 0 0" xyz="0 0 0"/>
      <geometry>
        <mesh filename="df1d8567cf192c61b2cc746911f13ff9_convex_piece_34.obj" scale="1.0000E+00"/>
      </geometry>
    </collision>
  </link>
  <joint name="link_df1d8567cf192c61b2cc746911f13ff9_convex_piece_34_joint" type="fixed">
    <origin rpy="0 0 0" xyz="0 0 0"/>
    <parent link="link_df1d8567cf192c61b2cc746911f13ff9_convex_piece_33"/>
    <child link="link_df1d8567cf192c61b2cc746911f13ff9_convex_piece_34"/>
  </joint>
  <link name="link_df1d8567cf192c61b2cc746911f13ff9_convex_piece_35">
    <inertial>
      <origin rpy="0 0 0" xyz="0 0 0"/>
      <mass value="2.92E-08"/>
      <inertia ixx="5.49E-11" ixy="3.46E-12" ixz="-1.44E-11" iyy="5.58E-11" iyz="-1.28E-11" izz="7.42E-12"/>
    </inertial>
    <visual>
      <origin rpy="0 0 0" xyz="0 0 0"/>
      <geometry>
        <mesh filename="df1d8567cf192c61b2cc746911f13ff9_convex_piece_35.obj" scale="1.0000E+00"/>
      </geometry>
      <material name="">
        <color rgba="7.50E-01 7.50E-01 7.50E-01 1"/>
      </material>
    </visual>
    <collision>
      <origin rpy="0 0 0" xyz="0 0 0"/>
      <geometry>
        <mesh filename="df1d8567cf192c61b2cc746911f13ff9_convex_piece_35.obj" scale="1.0000E+00"/>
      </geometry>
    </collision>
  </link>
  <joint name="link_df1d8567cf192c61b2cc746911f13ff9_convex_piece_35_joint" type="fixed">
    <origin rpy="0 0 0" xyz="0 0 0"/>
    <parent link="link_df1d8567cf192c61b2cc746911f13ff9_convex_piece_34"/>
    <child link="link_df1d8567cf192c61b2cc746911f13ff9_convex_piece_35"/>
  </joint>
  <link name="link_df1d8567cf192c61b2cc746911f13ff9_convex_piece_36">
    <inertial>
      <origin rpy="0 0 0" xyz="0 0 0"/>
      <mass value="2.07E-08"/>
      <inertia ixx="3.36E-11" ixy="4.07E-12" ixz="-1.32E-11" iyy="3.62E-11" iyz="-9.71E-12" izz="9.02E-12"/>
    </inertial>
    <visual>
      <origin rpy="0 0 0" xyz="0 0 0"/>
      <geometry>
        <mesh filename="df1d8567cf192c61b2cc746911f13ff9_convex_piece_36.obj" scale="1.0000E+00"/>
      </geometry>
      <material name="">
        <color rgba="7.50E-01 7.50E-01 7.50E-01 1"/>
      </material>
    </visual>
    <collision>
      <origin rpy="0 0 0" xyz="0 0 0"/>
      <geometry>
        <mesh filename="df1d8567cf192c61b2cc746911f13ff9_convex_piece_36.obj" scale="1.0000E+00"/>
      </geometry>
    </collision>
  </link>
  <joint name="link_df1d8567cf192c61b2cc746911f13ff9_convex_piece_36_joint" type="fixed">
    <origin rpy="0 0 0" xyz="0 0 0"/>
    <parent link="link_df1d8567cf192c61b2cc746911f13ff9_convex_piece_35"/>
    <child link="link_df1d8567cf192c61b2cc746911f13ff9_convex_piece_36"/>
  </joint>
  <link name="link_df1d8567cf192c61b2cc746911f13ff9_convex_piece_37">
    <inertial>
      <origin rpy="0 0 0" xyz="0 0 0"/>
      <mass value="1.13E-08"/>
      <inertia ixx="1.19E-11" ixy="-2.81E-13" ixz="-3.71E-13" iyy="7.50E-12" iyz="5.82E-12" izz="4.53E-12"/>
    </inertial>
    <visual>
      <origin rpy="0 0 0" xyz="0 0 0"/>
      <geometry>
        <mesh filename="df1d8567cf192c61b2cc746911f13ff9_convex_piece_37.obj" scale="1.0000E+00"/>
      </geometry>
      <material name="">
        <color rgba="7.50E-01 7.50E-01 7.50E-01 1"/>
      </material>
    </visual>
    <collision>
      <origin rpy="0 0 0" xyz="0 0 0"/>
      <geometry>
        <mesh filename="df1d8567cf192c61b2cc746911f13ff9_convex_piece_37.obj" scale="1.0000E+00"/>
      </geometry>
    </collision>
  </link>
  <joint name="link_df1d8567cf192c61b2cc746911f13ff9_convex_piece_37_joint" type="fixed">
    <origin rpy="0 0 0" xyz="0 0 0"/>
    <parent link="link_df1d8567cf192c61b2cc746911f13ff9_convex_piece_36"/>
    <child link="link_df1d8567cf192c61b2cc746911f13ff9_convex_piece_37"/>
  </joint>
  <link name="link_df1d8567cf192c61b2cc746911f13ff9_convex_piece_38">
    <inertial>
      <origin rpy="0 0 0" xyz="0 0 0"/>
      <mass value="3.31E-08"/>
      <inertia ixx="2.91E-11" ixy="4.68E-12" ixz="1.44E-11" iyy="3.42E-11" iyz="8.71E-12" izz="1.09E-11"/>
    </inertial>
    <visual>
      <origin rpy="0 0 0" xyz="0 0 0"/>
      <geometry>
        <mesh filename="df1d8567cf192c61b2cc746911f13ff9_convex_piece_38.obj" scale="1.0000E+00"/>
      </geometry>
      <material name="">
        <color rgba="7.50E-01 7.50E-01 7.50E-01 1"/>
      </material>
    </visual>
    <collision>
      <origin rpy="0 0 0" xyz="0 0 0"/>
      <geometry>
        <mesh filename="df1d8567cf192c61b2cc746911f13ff9_convex_piece_38.obj" scale="1.0000E+00"/>
      </geometry>
    </collision>
  </link>
  <joint name="link_df1d8567cf192c61b2cc746911f13ff9_convex_piece_38_joint" type="fixed">
    <origin rpy="0 0 0" xyz="0 0 0"/>
    <parent link="link_df1d8567cf192c61b2cc746911f13ff9_convex_piece_37"/>
    <child link="link_df1d8567cf192c61b2cc746911f13ff9_convex_piece_38"/>
  </joint>
  <link name="link_df1d8567cf192c61b2cc746911f13ff9_convex_piece_39">
    <inertial>
      <origin rpy="0 0 0" xyz="0 0 0"/>
      <mass value="4.46E-08"/>
      <inertia ixx="8.84E-11" ixy="1.89E-12" ixz="4.38E-12" iyy="7.48E-11" iyz="3.26E-11" izz="1.53E-11"/>
    </inertial>
    <visual>
      <origin rpy="0 0 0" xyz="0 0 0"/>
      <geometry>
        <mesh filename="df1d8567cf192c61b2cc746911f13ff9_convex_piece_39.obj" scale="1.0000E+00"/>
      </geometry>
      <material name="">
        <color rgba="7.50E-01 7.50E-01 7.50E-01 1"/>
      </material>
    </visual>
    <collision>
      <origin rpy="0 0 0" xyz="0 0 0"/>
      <geometry>
        <mesh filename="df1d8567cf192c61b2cc746911f13ff9_convex_piece_39.obj" scale="1.0000E+00"/>
      </geometry>
    </collision>
  </link>
  <joint name="link_df1d8567cf192c61b2cc746911f13ff9_convex_piece_39_joint" type="fixed">
    <origin rpy="0 0 0" xyz="0 0 0"/>
    <parent link="link_df1d8567cf192c61b2cc746911f13ff9_convex_piece_38"/>
    <child link="link_df1d8567cf192c61b2cc746911f13ff9_convex_piece_39"/>
  </joint>
  <link name="link_df1d8567cf192c61b2cc746911f13ff9_convex_piece_40">
    <inertial>
      <origin rpy="0 0 0" xyz="0 0 0"/>
      <mass value="2.17E-08"/>
      <inertia ixx="4.44E-11" ixy="3.24E-13" ixz="-8.52E-13" iyy="3.90E-11" iyz="-1.49E-11" izz="5.95E-12"/>
    </inertial>
    <visual>
      <origin rpy="0 0 0" xyz="0 0 0"/>
      <geometry>
        <mesh filename="df1d8567cf192c61b2cc746911f13ff9_convex_piece_40.obj" scale="1.0000E+00"/>
      </geometry>
      <material name="">
        <color rgba="7.50E-01 7.50E-01 7.50E-01 1"/>
      </material>
    </visual>
    <collision>
      <origin rpy="0 0 0" xyz="0 0 0"/>
      <geometry>
        <mesh filename="df1d8567cf192c61b2cc746911f13ff9_convex_piece_40.obj" scale="1.0000E+00"/>
      </geometry>
    </collision>
  </link>
  <joint name="link_df1d8567cf192c61b2cc746911f13ff9_convex_piece_40_joint" type="fixed">
    <origin rpy="0 0 0" xyz="0 0 0"/>
    <parent link="link_df1d8567cf192c61b2cc746911f13ff9_convex_piece_39"/>
    <child link="link_df1d8567cf192c61b2cc746911f13ff9_convex_piece_40"/>
  </joint>
  <link name="link_df1d8567cf192c61b2cc746911f13ff9_convex_piece_41">
    <inertial>
      <origin rpy="0 0 0" xyz="0 0 0"/>
      <mass value="3.85E-08"/>
      <inertia ixx="7.25E-11" ixy="1.45E-12" ixz="5.81E-12" iyy="6.91E-11" iyz="1.72E-11" izz="5.59E-12"/>
    </inertial>
    <visual>
      <origin rpy="0 0 0" xyz="0 0 0"/>
      <geometry>
        <mesh filename="df1d8567cf192c61b2cc746911f13ff9_convex_piece_41.obj" scale="1.0000E+00"/>
      </geometry>
      <material name="">
        <color rgba="7.50E-01 7.50E-01 7.50E-01 1"/>
      </material>
    </visual>
    <collision>
      <origin rpy="0 0 0" xyz="0 0 0"/>
      <geometry>
        <mesh filename="df1d8567cf192c61b2cc746911f13ff9_convex_piece_41.obj" scale="1.0000E+00"/>
      </geometry>
    </collision>
  </link>
  <joint name="link_df1d8567cf192c61b2cc746911f13ff9_convex_piece_41_joint" type="fixed">
    <origin rpy="0 0 0" xyz="0 0 0"/>
    <parent link="link_df1d8567cf192c61b2cc746911f13ff9_convex_piece_40"/>
    <child link="link_df1d8567cf192c61b2cc746911f13ff9_convex_piece_41"/>
  </joint>
  <link name="link_df1d8567cf192c61b2cc746911f13ff9_convex_piece_42">
    <inertial>
      <origin rpy="0 0 0" xyz="0 0 0"/>
      <mass value="7.19E-09"/>
      <inertia ixx="6.67E-12" ixy="2.42E-13" ixz="2.07E-12" iyy="7.23E-12" iyz="7.88E-13" izz="7.82E-13"/>
    </inertial>
    <visual>
      <origin rpy="0 0 0" xyz="0 0 0"/>
      <geometry>
        <mesh filename="df1d8567cf192c61b2cc746911f13ff9_convex_piece_42.obj" scale="1.0000E+00"/>
      </geometry>
      <material name="">
        <color rgba="7.50E-01 7.50E-01 7.50E-01 1"/>
      </material>
    </visual>
    <collision>
      <origin rpy="0 0 0" xyz="0 0 0"/>
      <geometry>
        <mesh filename="df1d8567cf192c61b2cc746911f13ff9_convex_piece_42.obj" scale="1.0000E+00"/>
      </geometry>
    </collision>
  </link>
  <joint name="link_df1d8567cf192c61b2cc746911f13ff9_convex_piece_42_joint" type="fixed">
    <origin rpy="0 0 0" xyz="0 0 0"/>
    <parent link="link_df1d8567cf192c61b2cc746911f13ff9_convex_piece_41"/>
    <child link="link_df1d8567cf192c61b2cc746911f13ff9_convex_piece_42"/>
  </joint>
  <link name="link_df1d8567cf192c61b2cc746911f13ff9_convex_piece_43">
    <inertial>
      <origin rpy="0 0 0" xyz="0 0 0"/>
      <mass value="3.62E-08"/>
      <inertia ixx="3.29E-11" ixy="6.11E-12" ixz="-9.87E-12" iyy="2.74E-11" iyz="-1.51E-11" izz="1.45E-11"/>
    </inertial>
    <visual>
      <origin rpy="0 0 0" xyz="0 0 0"/>
      <geometry>
        <mesh filename="df1d8567cf192c61b2cc746911f13ff9_convex_piece_43.obj" scale="1.0000E+00"/>
      </geometry>
      <material name="">
        <color rgba="7.50E-01 7.50E-01 7.50E-01 1"/>
      </material>
    </visual>
    <collision>
      <origin rpy="0 0 0" xyz="0 0 0"/>
      <geometry>
        <mesh filename="df1d8567cf192c61b2cc746911f13ff9_convex_piece_43.obj" scale="1.0000E+00"/>
      </geometry>
    </collision>
  </link>
  <joint name="link_df1d8567cf192c61b2cc746911f13ff9_convex_piece_43_joint" type="fixed">
    <origin rpy="0 0 0" xyz="0 0 0"/>
    <parent link="link_df1d8567cf192c61b2cc746911f13ff9_convex_piece_42"/>
    <child link="link_df1d8567cf192c61b2cc746911f13ff9_convex_piece_43"/>
  </joint>
  <link name="link_df1d8567cf192c61b2cc746911f13ff9_convex_piece_44">
    <inertial>
      <origin rpy="0 0 0" xyz="0 0 0"/>
      <mass value="1.36E-08"/>
      <inertia ixx="1.40E-11" ixy="-4.05E-14" ixz="4.90E-14" iyy="8.60E-12" iyz="-6.93E-12" izz="5.56E-12"/>
    </inertial>
    <visual>
      <origin rpy="0 0 0" xyz="0 0 0"/>
      <geometry>
        <mesh filename="df1d8567cf192c61b2cc746911f13ff9_convex_piece_44.obj" scale="1.0000E+00"/>
      </geometry>
      <material name="">
        <color rgba="7.50E-01 7.50E-01 7.50E-01 1"/>
      </material>
    </visual>
    <collision>
      <origin rpy="0 0 0" xyz="0 0 0"/>
      <geometry>
        <mesh filename="df1d8567cf192c61b2cc746911f13ff9_convex_piece_44.obj" scale="1.0000E+00"/>
      </geometry>
    </collision>
  </link>
  <joint name="link_df1d8567cf192c61b2cc746911f13ff9_convex_piece_44_joint" type="fixed">
    <origin rpy="0 0 0" xyz="0 0 0"/>
    <parent link="link_df1d8567cf192c61b2cc746911f13ff9_convex_piece_43"/>
    <child link="link_df1d8567cf192c61b2cc746911f13ff9_convex_piece_44"/>
  </joint>
  <link name="link_df1d8567cf192c61b2cc746911f13ff9_convex_piece_45">
    <inertial>
      <origin rpy="0 0 0" xyz="0 0 0"/>
      <mass value="1.49E-08"/>
      <inertia ixx="1.03E-11" ixy="2.50E-12" ixz="-6.94E-12" iyy="1.42E-11" iyz="-3.37E-12" izz="6.52E-12"/>
    </inertial>
    <visual>
      <origin rpy="0 0 0" xyz="0 0 0"/>
      <geometry>
        <mesh filename="df1d8567cf192c61b2cc746911f13ff9_convex_piece_45.obj" scale="1.0000E+00"/>
      </geometry>
      <material name="">
        <color rgba="7.50E-01 7.50E-01 7.50E-01 1"/>
      </material>
    </visual>
    <collision>
      <origin rpy="0 0 0" xyz="0 0 0"/>
      <geometry>
        <mesh filename="df1d8567cf192c61b2cc746911f13ff9_convex_piece_45.obj" scale="1.0000E+00"/>
      </geometry>
    </collision>
  </link>
  <joint name="link_df1d8567cf192c61b2cc746911f13ff9_convex_piece_45_joint" type="fixed">
    <origin rpy="0 0 0" xyz="0 0 0"/>
    <parent link="link_df1d8567cf192c61b2cc746911f13ff9_convex_piece_44"/>
    <child link="link_df1d8567cf192c61b2cc746911f13ff9_convex_piece_45"/>
  </joint>
  <link name="link_df1d8567cf192c61b2cc746911f13ff9_convex_piece_46">
    <inertial>
      <origin rpy="0 0 0" xyz="0 0 0"/>
      <mass value="1.73E-08"/>
      <inertia ixx="1.65E-11" ixy="7.99E-13" ixz="2.65E-12" iyy="1.57E-11" iyz="4.55E-12" izz="1.98E-12"/>
    </inertial>
    <visual>
      <origin rpy="0 0 0" xyz="0 0 0"/>
      <geometry>
        <mesh filename="df1d8567cf192c61b2cc746911f13ff9_convex_piece_46.obj" scale="1.0000E+00"/>
      </geometry>
      <material name="">
        <color rgba="7.50E-01 7.50E-01 7.50E-01 1"/>
      </material>
    </visual>
    <collision>
      <origin rpy="0 0 0" xyz="0 0 0"/>
      <geometry>
        <mesh filename="df1d8567cf192c61b2cc746911f13ff9_convex_piece_46.obj" scale="1.0000E+00"/>
      </geometry>
    </collision>
  </link>
  <joint name="link_df1d8567cf192c61b2cc746911f13ff9_convex_piece_46_joint" type="fixed">
    <origin rpy="0 0 0" xyz="0 0 0"/>
    <parent link="link_df1d8567cf192c61b2cc746911f13ff9_convex_piece_45"/>
    <child link="link_df1d8567cf192c61b2cc746911f13ff9_convex_piece_46"/>
  </joint>
  <link name="link_df1d8567cf192c61b2cc746911f13ff9_convex_piece_47">
    <inertial>
      <origin rpy="0 0 0" xyz="0 0 0"/>
      <mass value="5.43E-08"/>
      <inertia ixx="1.02E-10" ixy="-5.73E-12" ixz="-2.40E-11" iyy="1.02E-10" iyz="2.39E-11" izz="1.30E-11"/>
    </inertial>
    <visual>
      <origin rpy="0 0 0" xyz="0 0 0"/>
      <geometry>
        <mesh filename="df1d8567cf192c61b2cc746911f13ff9_convex_piece_47.obj" scale="1.0000E+00"/>
      </geometry>
      <material name="">
        <color rgba="7.50E-01 7.50E-01 7.50E-01 1"/>
      </material>
    </visual>
    <collision>
      <origin rpy="0 0 0" xyz="0 0 0"/>
      <geometry>
        <mesh filename="df1d8567cf192c61b2cc746911f13ff9_convex_piece_47.obj" scale="1.0000E+00"/>
      </geometry>
    </collision>
  </link>
  <joint name="link_df1d8567cf192c61b2cc746911f13ff9_convex_piece_47_joint" type="fixed">
    <origin rpy="0 0 0" xyz="0 0 0"/>
    <parent link="link_df1d8567cf192c61b2cc746911f13ff9_convex_piece_46"/>
    <child link="link_df1d8567cf192c61b2cc746911f13ff9_convex_piece_47"/>
  </joint>
  <link name="link_df1d8567cf192c61b2cc746911f13ff9_convex_piece_48">
    <inertial>
      <origin rpy="0 0 0" xyz="0 0 0"/>
      <mass value="2.30E-08"/>
      <inertia ixx="2.14E-11" ixy="-1.61E-13" ixz="2.28E-12" iyy="2.22E-11" iyz="-1.51E-12" izz="1.15E-12"/>
    </inertial>
    <visual>
      <origin rpy="0 0 0" xyz="0 0 0"/>
      <geometry>
        <mesh filename="df1d8567cf192c61b2cc746911f13ff9_convex_piece_48.obj" scale="1.0000E+00"/>
      </geometry>
      <material name="">
        <color rgba="7.50E-01 7.50E-01 7.50E-01 1"/>
      </material>
    </visual>
    <collision>
      <origin rpy="0 0 0" xyz="0 0 0"/>
      <geometry>
        <mesh filename="df1d8567cf192c61b2cc746911f13ff9_convex_piece_48.obj" scale="1.0000E+00"/>
      </geometry>
    </collision>
  </link>
  <joint name="link_df1d8567cf192c61b2cc746911f13ff9_convex_piece_48_joint" type="fixed">
    <origin rpy="0 0 0" xyz="0 0 0"/>
    <parent link="link_df1d8567cf192c61b2cc746911f13ff9_convex_piece_47"/>
    <child link="link_df1d8567cf192c61b2cc746911f13ff9_convex_piece_48"/>
  </joint>
  <link name="link_df1d8567cf192c61b2cc746911f13ff9_convex_piece_49">
    <inertial>
      <origin rpy="0 0 0" xyz="0 0 0"/>
      <mass value="2.02E-08"/>
      <inertia ixx="3.83E-11" ixy="3.04E-13" ixz="-5.89E-13" iyy="3.04E-11" iyz="-1.58E-11" izz="8.42E-12"/>
    </inertial>
    <visual>
      <origin rpy="0 0 0" xyz="0 0 0"/>
      <geometry>
        <mesh filename="df1d8567cf192c61b2cc746911f13ff9_convex_piece_49.obj" scale="1.0000E+00"/>
      </geometry>
      <material name="">
        <color rgba="7.50E-01 7.50E-01 7.50E-01 1"/>
      </material>
    </visual>
    <collision>
      <origin rpy="0 0 0" xyz="0 0 0"/>
      <geometry>
        <mesh filename="df1d8567cf192c61b2cc746911f13ff9_convex_piece_49.obj" scale="1.0000E+00"/>
      </geometry>
    </collision>
  </link>
  <joint name="link_df1d8567cf192c61b2cc746911f13ff9_convex_piece_49_joint" type="fixed">
    <origin rpy="0 0 0" xyz="0 0 0"/>
    <parent link="link_df1d8567cf192c61b2cc746911f13ff9_convex_piece_48"/>
    <child link="link_df1d8567cf192c61b2cc746911f13ff9_convex_piece_49"/>
  </joint>
  <link name="link_df1d8567cf192c61b2cc746911f13ff9_convex_piece_50">
    <inertial>
      <origin rpy="0 0 0" xyz="0 0 0"/>
      <mass value="1.88E-08"/>
      <inertia ixx="3.05E-11" ixy="-3.39E-12" ixz="-1.25E-11" iyy="3.38E-11" iyz="7.93E-12" izz="7.94E-12"/>
    </inertial>
    <visual>
      <origin rpy="0 0 0" xyz="0 0 0"/>
      <geometry>
        <mesh filename="df1d8567cf192c61b2cc746911f13ff9_convex_piece_50.obj" scale="1.0000E+00"/>
      </geometry>
      <material name="">
        <color rgba="7.50E-01 7.50E-01 7.50E-01 1"/>
      </material>
    </visual>
    <collision>
      <origin rpy="0 0 0" xyz="0 0 0"/>
      <geometry>
        <mesh filename="df1d8567cf192c61b2cc746911f13ff9_convex_piece_50.obj" scale="1.0000E+00"/>
      </geometry>
    </collision>
  </link>
  <joint name="link_df1d8567cf192c61b2cc746911f13ff9_convex_piece_50_joint" type="fixed">
    <origin rpy="0 0 0" xyz="0 0 0"/>
    <parent link="link_df1d8567cf192c61b2cc746911f13ff9_convex_piece_49"/>
    <child link="link_df1d8567cf192c61b2cc746911f13ff9_convex_piece_50"/>
  </joint>
  <link name="link_df1d8567cf192c61b2cc746911f13ff9_convex_piece_51">
    <inertial>
      <origin rpy="0 0 0" xyz="0 0 0"/>
      <mass value="2.06E-08"/>
      <inertia ixx="1.90E-11" ixy="2.38E-13" ixz="1.03E-11" iyy="2.43E-11" iyz="4.36E-13" izz="5.76E-12"/>
    </inertial>
    <visual>
      <origin rpy="0 0 0" xyz="0 0 0"/>
      <geometry>
        <mesh filename="df1d8567cf192c61b2cc746911f13ff9_convex_piece_51.obj" scale="1.0000E+00"/>
      </geometry>
      <material name="">
        <color rgba="7.50E-01 7.50E-01 7.50E-01 1"/>
      </material>
    </visual>
    <collision>
      <origin rpy="0 0 0" xyz="0 0 0"/>
      <geometry>
        <mesh filename="df1d8567cf192c61b2cc746911f13ff9_convex_piece_51.obj" scale="1.0000E+00"/>
      </geometry>
    </collision>
  </link>
  <joint name="link_df1d8567cf192c61b2cc746911f13ff9_convex_piece_51_joint" type="fixed">
    <origin rpy="0 0 0" xyz="0 0 0"/>
    <parent link="link_df1d8567cf192c61b2cc746911f13ff9_convex_piece_50"/>
    <child link="link_df1d8567cf192c61b2cc746911f13ff9_convex_piece_51"/>
  </joint>
  <link name="link_df1d8567cf192c61b2cc746911f13ff9_convex_piece_52">
    <inertial>
      <origin rpy="0 0 0" xyz="0 0 0"/>
      <mass value="5.49E-08"/>
      <inertia ixx="8.19E-11" ixy="1.30E-13" ixz="2.77E-12" iyy="8.24E-11" iyz="-4.50E-13" izz="1.07E-12"/>
    </inertial>
    <visual>
      <origin rpy="0 0 0" xyz="0 0 0"/>
      <geometry>
        <mesh filename="df1d8567cf192c61b2cc746911f13ff9_convex_piece_52.obj" scale="1.0000E+00"/>
      </geometry>
      <material name="">
        <color rgba="7.50E-01 7.50E-01 7.50E-01 1"/>
      </material>
    </visual>
    <collision>
      <origin rpy="0 0 0" xyz="0 0 0"/>
      <geometry>
        <mesh filename="df1d8567cf192c61b2cc746911f13ff9_convex_piece_52.obj" scale="1.0000E+00"/>
      </geometry>
    </collision>
  </link>
  <joint name="link_df1d8567cf192c61b2cc746911f13ff9_convex_piece_52_joint" type="fixed">
    <origin rpy="0 0 0" xyz="0 0 0"/>
    <parent link="link_df1d8567cf192c61b2cc746911f13ff9_convex_piece_51"/>
    <child link="link_df1d8567cf192c61b2cc746911f13ff9_convex_piece_52"/>
  </joint>
  <link name="link_df1d8567cf192c61b2cc746911f13ff9_convex_piece_53">
    <inertial>
      <origin rpy="0 0 0" xyz="0 0 0"/>
      <mass value="3.47E-08"/>
      <inertia ixx="2.14E-11" ixy="3.77E-13" ixz="1.70E-11" iyy="3.45E-11" iyz="4.67E-13" izz="1.38E-11"/>
    </inertial>
    <visual>
      <origin rpy="0 0 0" xyz="0 0 0"/>
      <geometry>
        <mesh filename="df1d8567cf192c61b2cc746911f13ff9_convex_piece_53.obj" scale="1.0000E+00"/>
      </geometry>
      <material name="">
        <color rgba="7.50E-01 7.50E-01 7.50E-01 1"/>
      </material>
    </visual>
    <collision>
      <origin rpy="0 0 0" xyz="0 0 0"/>
      <geometry>
        <mesh filename="df1d8567cf192c61b2cc746911f13ff9_convex_piece_53.obj" scale="1.0000E+00"/>
      </geometry>
    </collision>
  </link>
  <joint name="link_df1d8567cf192c61b2cc746911f13ff9_convex_piece_53_joint" type="fixed">
    <origin rpy="0 0 0" xyz="0 0 0"/>
    <parent link="link_df1d8567cf192c61b2cc746911f13ff9_convex_piece_52"/>
    <child link="link_df1d8567cf192c61b2cc746911f13ff9_convex_piece_53"/>
  </joint>
  <link name="link_df1d8567cf192c61b2cc746911f13ff9_convex_piece_54">
    <inertial>
      <origin rpy="0 0 0" xyz="0 0 0"/>
      <mass value="2.93E-08"/>
      <inertia ixx="2.75E-11" ixy="-4.52E-15" ixz="-2.52E-13" iyy="2.73E-11" iyz="3.26E-12" izz="7.49E-13"/>
    </inertial>
    <visual>
      <origin rpy="0 0 0" xyz="0 0 0"/>
      <geometry>
        <mesh filename="df1d8567cf192c61b2cc746911f13ff9_convex_piece_54.obj" scale="1.0000E+00"/>
      </geometry>
      <material name="">
        <color rgba="7.50E-01 7.50E-01 7.50E-01 1"/>
      </material>
    </visual>
    <collision>
      <origin rpy="0 0 0" xyz="0 0 0"/>
      <geometry>
        <mesh filename="df1d8567cf192c61b2cc746911f13ff9_convex_piece_54.obj" scale="1.0000E+00"/>
      </geometry>
    </collision>
  </link>
  <joint name="link_df1d8567cf192c61b2cc746911f13ff9_convex_piece_54_joint" type="fixed">
    <origin rpy="0 0 0" xyz="0 0 0"/>
    <parent link="link_df1d8567cf192c61b2cc746911f13ff9_convex_piece_53"/>
    <child link="link_df1d8567cf192c61b2cc746911f13ff9_convex_piece_54"/>
  </joint>
  <link name="link_df1d8567cf192c61b2cc746911f13ff9_convex_piece_55">
    <inertial>
      <origin rpy="0 0 0" xyz="0 0 0"/>
      <mass value="2.84E-08"/>
      <inertia ixx="5.39E-11" ixy="-2.98E-12" ixz="1.15E-11" iyy="5.30E-11" iyz="-1.33E-11" izz="6.31E-12"/>
    </inertial>
    <visual>
      <origin rpy="0 0 0" xyz="0 0 0"/>
      <geometry>
        <mesh filename="df1d8567cf192c61b2cc746911f13ff9_convex_piece_55.obj" scale="1.0000E+00"/>
      </geometry>
      <material name="">
        <color rgba="7.50E-01 7.50E-01 7.50E-01 1"/>
      </material>
    </visual>
    <collision>
      <origin rpy="0 0 0" xyz="0 0 0"/>
      <geometry>
        <mesh filename="df1d8567cf192c61b2cc746911f13ff9_convex_piece_55.obj" scale="1.0000E+00"/>
      </geometry>
    </collision>
  </link>
  <joint name="link_df1d8567cf192c61b2cc746911f13ff9_convex_piece_55_joint" type="fixed">
    <origin rpy="0 0 0" xyz="0 0 0"/>
    <parent link="link_df1d8567cf192c61b2cc746911f13ff9_convex_piece_54"/>
    <child link="link_df1d8567cf192c61b2cc746911f13ff9_convex_piece_55"/>
  </joint>
  <link name="link_df1d8567cf192c61b2cc746911f13ff9_convex_piece_56">
    <inertial>
      <origin rpy="0 0 0" xyz="0 0 0"/>
      <mass value="1.69E-07"/>
      <inertia ixx="9.79E-11" ixy="3.86E-11" ixz="-1.51E-11" iyy="8.60E-11" iyz="-1.75E-11" izz="8.07E-11"/>
    </inertial>
    <visual>
      <origin rpy="0 0 0" xyz="0 0 0"/>
      <geometry>
        <mesh filename="df1d8567cf192c61b2cc746911f13ff9_convex_piece_56.obj" scale="1.0000E+00"/>
      </geometry>
      <material name="">
        <color rgba="7.50E-01 7.50E-01 7.50E-01 1"/>
      </material>
    </visual>
    <collision>
      <origin rpy="0 0 0" xyz="0 0 0"/>
      <geometry>
        <mesh filename="df1d8567cf192c61b2cc746911f13ff9_convex_piece_56.obj" scale="1.0000E+00"/>
      </geometry>
    </collision>
  </link>
  <joint name="link_df1d8567cf192c61b2cc746911f13ff9_convex_piece_56_joint" type="fixed">
    <origin rpy="0 0 0" xyz="0 0 0"/>
    <parent link="link_df1d8567cf192c61b2cc746911f13ff9_convex_piece_55"/>
    <child link="link_df1d8567cf192c61b2cc746911f13ff9_convex_piece_56"/>
  </joint>
  <link name="link_df1d8567cf192c61b2cc746911f13ff9_convex_piece_57">
    <inertial>
      <origin rpy="0 0 0" xyz="0 0 0"/>
      <mass value="1.70E-08"/>
      <inertia ixx="1.29E-11" ixy="-3.02E-12" ixz="-7.48E-12" iyy="1.60E-11" iyz="4.61E-12" izz="6.99E-12"/>
    </inertial>
    <visual>
      <origin rpy="0 0 0" xyz="0 0 0"/>
      <geometry>
        <mesh filename="df1d8567cf192c61b2cc746911f13ff9_convex_piece_57.obj" scale="1.0000E+00"/>
      </geometry>
      <material name="">
        <color rgba="7.50E-01 7.50E-01 7.50E-01 1"/>
      </material>
    </visual>
    <collision>
      <origin rpy="0 0 0" xyz="0 0 0"/>
      <geometry>
        <mesh filename="df1d8567cf192c61b2cc746911f13ff9_convex_piece_57.obj" scale="1.0000E+00"/>
      </geometry>
    </collision>
  </link>
  <joint name="link_df1d8567cf192c61b2cc746911f13ff9_convex_piece_57_joint" type="fixed">
    <origin rpy="0 0 0" xyz="0 0 0"/>
    <parent link="link_df1d8567cf192c61b2cc746911f13ff9_convex_piece_56"/>
    <child link="link_df1d8567cf192c61b2cc746911f13ff9_convex_piece_57"/>
  </joint>
  <link name="link_df1d8567cf192c61b2cc746911f13ff9_convex_piece_58">
    <inertial>
      <origin rpy="0 0 0" xyz="0 0 0"/>
      <mass value="1.95E-08"/>
      <inertia ixx="1.81E-11" ixy="-3.44E-12" ixz="-5.12E-12" iyy="1.44E-11" iyz="8.58E-12" izz="8.16E-12"/>
    </inertial>
    <visual>
      <origin rpy="0 0 0" xyz="0 0 0"/>
      <geometry>
        <mesh filename="df1d8567cf192c61b2cc746911f13ff9_convex_piece_58.obj" scale="1.0000E+00"/>
      </geometry>
      <material name="">
        <color rgba="7.50E-01 7.50E-01 7.50E-01 1"/>
      </material>
    </visual>
    <collision>
      <origin rpy="0 0 0" xyz="0 0 0"/>
      <geometry>
        <mesh filename="df1d8567cf192c61b2cc746911f13ff9_convex_piece_58.obj" scale="1.0000E+00"/>
      </geometry>
    </collision>
  </link>
  <joint name="link_df1d8567cf192c61b2cc746911f13ff9_convex_piece_58_joint" type="fixed">
    <origin rpy="0 0 0" xyz="0 0 0"/>
    <parent link="link_df1d8567cf192c61b2cc746911f13ff9_convex_piece_57"/>
    <child link="link_df1d8567cf192c61b2cc746911f13ff9_convex_piece_58"/>
  </joint>
  <link name="link_df1d8567cf192c61b2cc746911f13ff9_convex_piece_59">
    <inertial>
      <origin rpy="0 0 0" xyz="0 0 0"/>
      <mass value="1.84E-08"/>
      <inertia ixx="3.38E-11" ixy="1.24E-13" ixz="-4.97E-13" iyy="3.19E-11" iyz="-8.02E-12" izz="2.31E-12"/>
    </inertial>
    <visual>
      <origin rpy="0 0 0" xyz="0 0 0"/>
      <geometry>
        <mesh filename="df1d8567cf192c61b2cc746911f13ff9_convex_piece_59.obj" scale="1.0000E+00"/>
      </geometry>
      <material name="">
        <color rgba="7.50E-01 7.50E-01 7.50E-01 1"/>
      </material>
    </visual>
    <collision>
      <origin rpy="0 0 0" xyz="0 0 0"/>
      <geometry>
        <mesh filename="df1d8567cf192c61b2cc746911f13ff9_convex_piece_59.obj" scale="1.0000E+00"/>
      </geometry>
    </collision>
  </link>
  <joint name="link_df1d8567cf192c61b2cc746911f13ff9_convex_piece_59_joint" type="fixed">
    <origin rpy="0 0 0" xyz="0 0 0"/>
    <parent link="link_df1d8567cf192c61b2cc746911f13ff9_convex_piece_58"/>
    <child link="link_df1d8567cf192c61b2cc746911f13ff9_convex_piece_59"/>
  </joint>
  <link name="link_df1d8567cf192c61b2cc746911f13ff9_convex_piece_60">
    <inertial>
      <origin rpy="0 0 0" xyz="0 0 0"/>
      <mass value="2.85E-08"/>
      <inertia ixx="2.66E-11" ixy="4.43E-12" ixz="7.11E-12" iyy="2.15E-11" iyz="1.23E-11" izz="1.11E-11"/>
    </inertial>
    <visual>
      <origin rpy="0 0 0" xyz="0 0 0"/>
      <geometry>
        <mesh filename="df1d8567cf192c61b2cc746911f13ff9_convex_piece_60.obj" scale="1.0000E+00"/>
      </geometry>
      <material name="">
        <color rgba="7.50E-01 7.50E-01 7.50E-01 1"/>
      </material>
    </visual>
    <collision>
      <origin rpy="0 0 0" xyz="0 0 0"/>
      <geometry>
        <mesh filename="df1d8567cf192c61b2cc746911f13ff9_convex_piece_60.obj" scale="1.0000E+00"/>
      </geometry>
    </collision>
  </link>
  <joint name="link_df1d8567cf192c61b2cc746911f13ff9_convex_piece_60_joint" type="fixed">
    <origin rpy="0 0 0" xyz="0 0 0"/>
    <parent link="link_df1d8567cf192c61b2cc746911f13ff9_convex_piece_59"/>
    <child link="link_df1d8567cf192c61b2cc746911f13ff9_convex_piece_60"/>
  </joint>
  <link name="link_df1d8567cf192c61b2cc746911f13ff9_convex_piece_61">
    <inertial>
      <origin rpy="0 0 0" xyz="0 0 0"/>
      <mass value="1.26E-08"/>
      <inertia ixx="2.37E-11" ixy="2.12E-12" ixz="-4.92E-12" iyy="2.12E-11" iyz="-8.69E-12" izz="5.03E-12"/>
    </inertial>
    <visual>
      <origin rpy="0 0 0" xyz="0 0 0"/>
      <geometry>
        <mesh filename="df1d8567cf192c61b2cc746911f13ff9_convex_piece_61.obj" scale="1.0000E+00"/>
      </geometry>
      <material name="">
        <color rgba="7.50E-01 7.50E-01 7.50E-01 1"/>
      </material>
    </visual>
    <collision>
      <origin rpy="0 0 0" xyz="0 0 0"/>
      <geometry>
        <mesh filename="df1d8567cf192c61b2cc746911f13ff9_convex_piece_61.obj" scale="1.0000E+00"/>
      </geometry>
    </collision>
  </link>
  <joint name="link_df1d8567cf192c61b2cc746911f13ff9_convex_piece_61_joint" type="fixed">
    <origin rpy="0 0 0" xyz="0 0 0"/>
    <parent link="link_df1d8567cf192c61b2cc746911f13ff9_convex_piece_60"/>
    <child link="link_df1d8567cf192c61b2cc746911f13ff9_convex_piece_61"/>
  </joint>
  <link name="link_df1d8567cf192c61b2cc746911f13ff9_convex_piece_62">
    <inertial>
      <origin rpy="0 0 0" xyz="0 0 0"/>
      <mass value="1.26E-07"/>
      <inertia ixx="9.66E-11" ixy="-1.81E-12" ixz="6.75E-13" iyy="3.89E-11" iyz="-1.58E-11" izz="5.97E-11"/>
    </inertial>
    <visual>
      <origin rpy="0 0 0" xyz="0 0 0"/>
      <geometry>
        <mesh filename="df1d8567cf192c61b2cc746911f13ff9_convex_piece_62.obj" scale="1.0000E+00"/>
      </geometry>
      <material name="">
        <color rgba="7.50E-01 7.50E-01 7.50E-01 1"/>
      </material>
    </visual>
    <collision>
      <origin rpy="0 0 0" xyz="0 0 0"/>
      <geometry>
        <mesh filename="df1d8567cf192c61b2cc746911f13ff9_convex_piece_62.obj" scale="1.0000E+00"/>
      </geometry>
    </collision>
  </link>
  <joint name="link_df1d8567cf192c61b2cc746911f13ff9_convex_piece_62_joint" type="fixed">
    <origin rpy="0 0 0" xyz="0 0 0"/>
    <parent link="link_df1d8567cf192c61b2cc746911f13ff9_convex_piece_61"/>
    <child link="link_df1d8567cf192c61b2cc746911f13ff9_convex_piece_62"/>
  </joint>
  <link name="link_df1d8567cf192c61b2cc746911f13ff9_convex_piece_63">
    <inertial>
      <origin rpy="0 0 0" xyz="0 0 0"/>
      <mass value="8.39E-08"/>
      <inertia ixx="6.01E-11" ixy="1.24E-11" ixz="-3.24E-12" iyy="2.92E-11" iyz="-9.19E-12" izz="4.01E-11"/>
    </inertial>
    <visual>
      <origin rpy="0 0 0" xyz="0 0 0"/>
      <geometry>
        <mesh filename="df1d8567cf192c61b2cc746911f13ff9_convex_piece_63.obj" scale="1.0000E+00"/>
      </geometry>
      <material name="">
        <color rgba="7.50E-01 7.50E-01 7.50E-01 1"/>
      </material>
    </visual>
    <collision>
      <origin rpy="0 0 0" xyz="0 0 0"/>
      <geometry>
        <mesh filename="df1d8567cf192c61b2cc746911f13ff9_convex_piece_63.obj" scale="1.0000E+00"/>
      </geometry>
    </collision>
  </link>
  <joint name="link_df1d8567cf192c61b2cc746911f13ff9_convex_piece_63_joint" type="fixed">
    <origin rpy="0 0 0" xyz="0 0 0"/>
    <parent link="link_df1d8567cf192c61b2cc746911f13ff9_convex_piece_62"/>
    <child link="link_df1d8567cf192c61b2cc746911f13ff9_convex_piece_63"/>
  </joint>
</robot>
